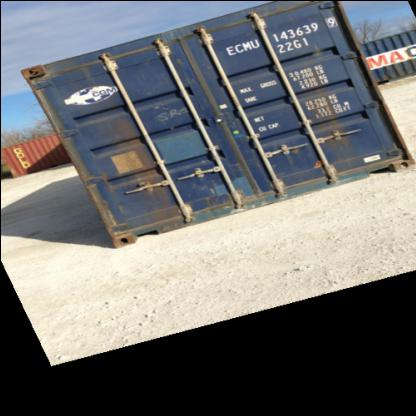Damage: (112, 120, 166, 214), (306, 66, 350, 150), (196, 168, 240, 210), (40, 58, 98, 82), (154, 95, 188, 117)
